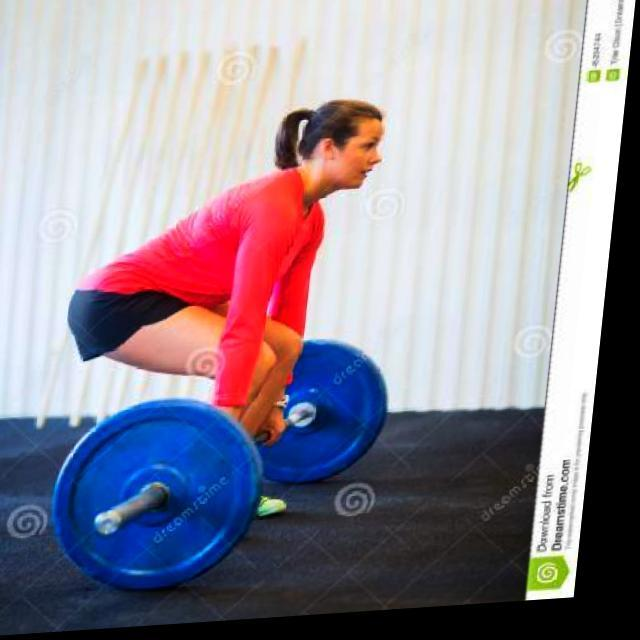barbell: (55, 397, 289, 610)
